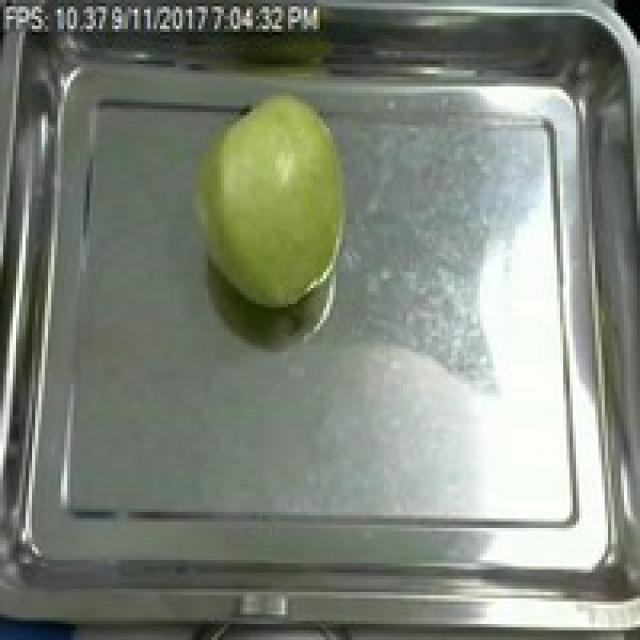Fruit: (180, 80, 358, 317)
